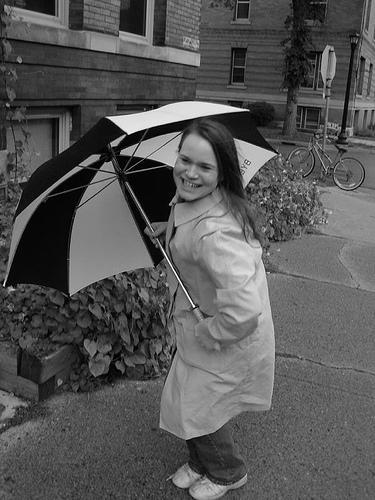bicycle: (288, 132, 365, 191)
